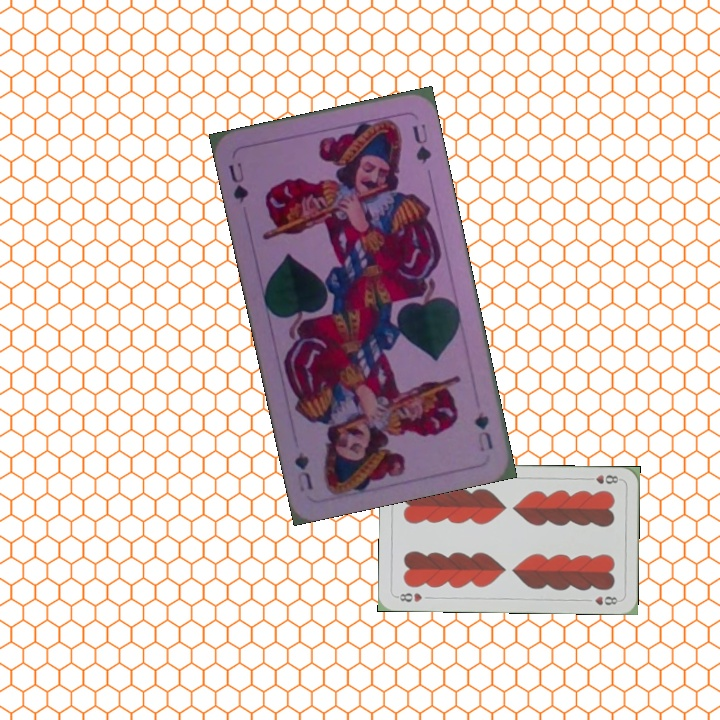GU: (224, 158, 251, 206), (470, 408, 496, 454)
H8: (583, 471, 623, 486), (393, 589, 425, 604)
